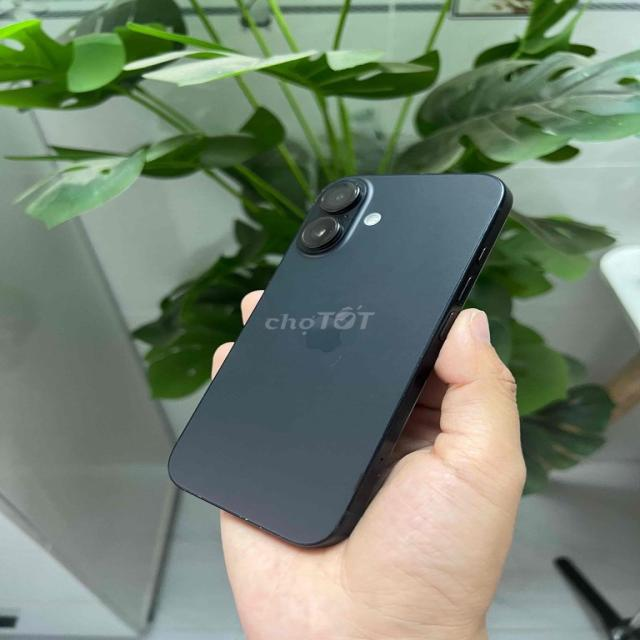gen_16: (169, 175, 512, 547)
